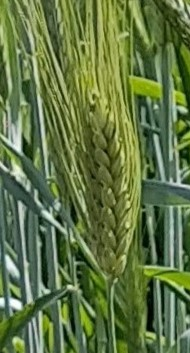Healthy Wheat: (86, 118, 138, 275)
